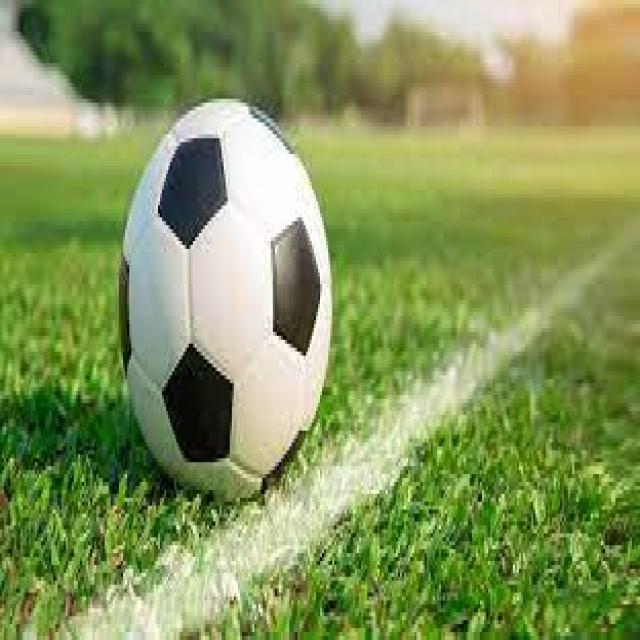football: (117, 99, 330, 498)
